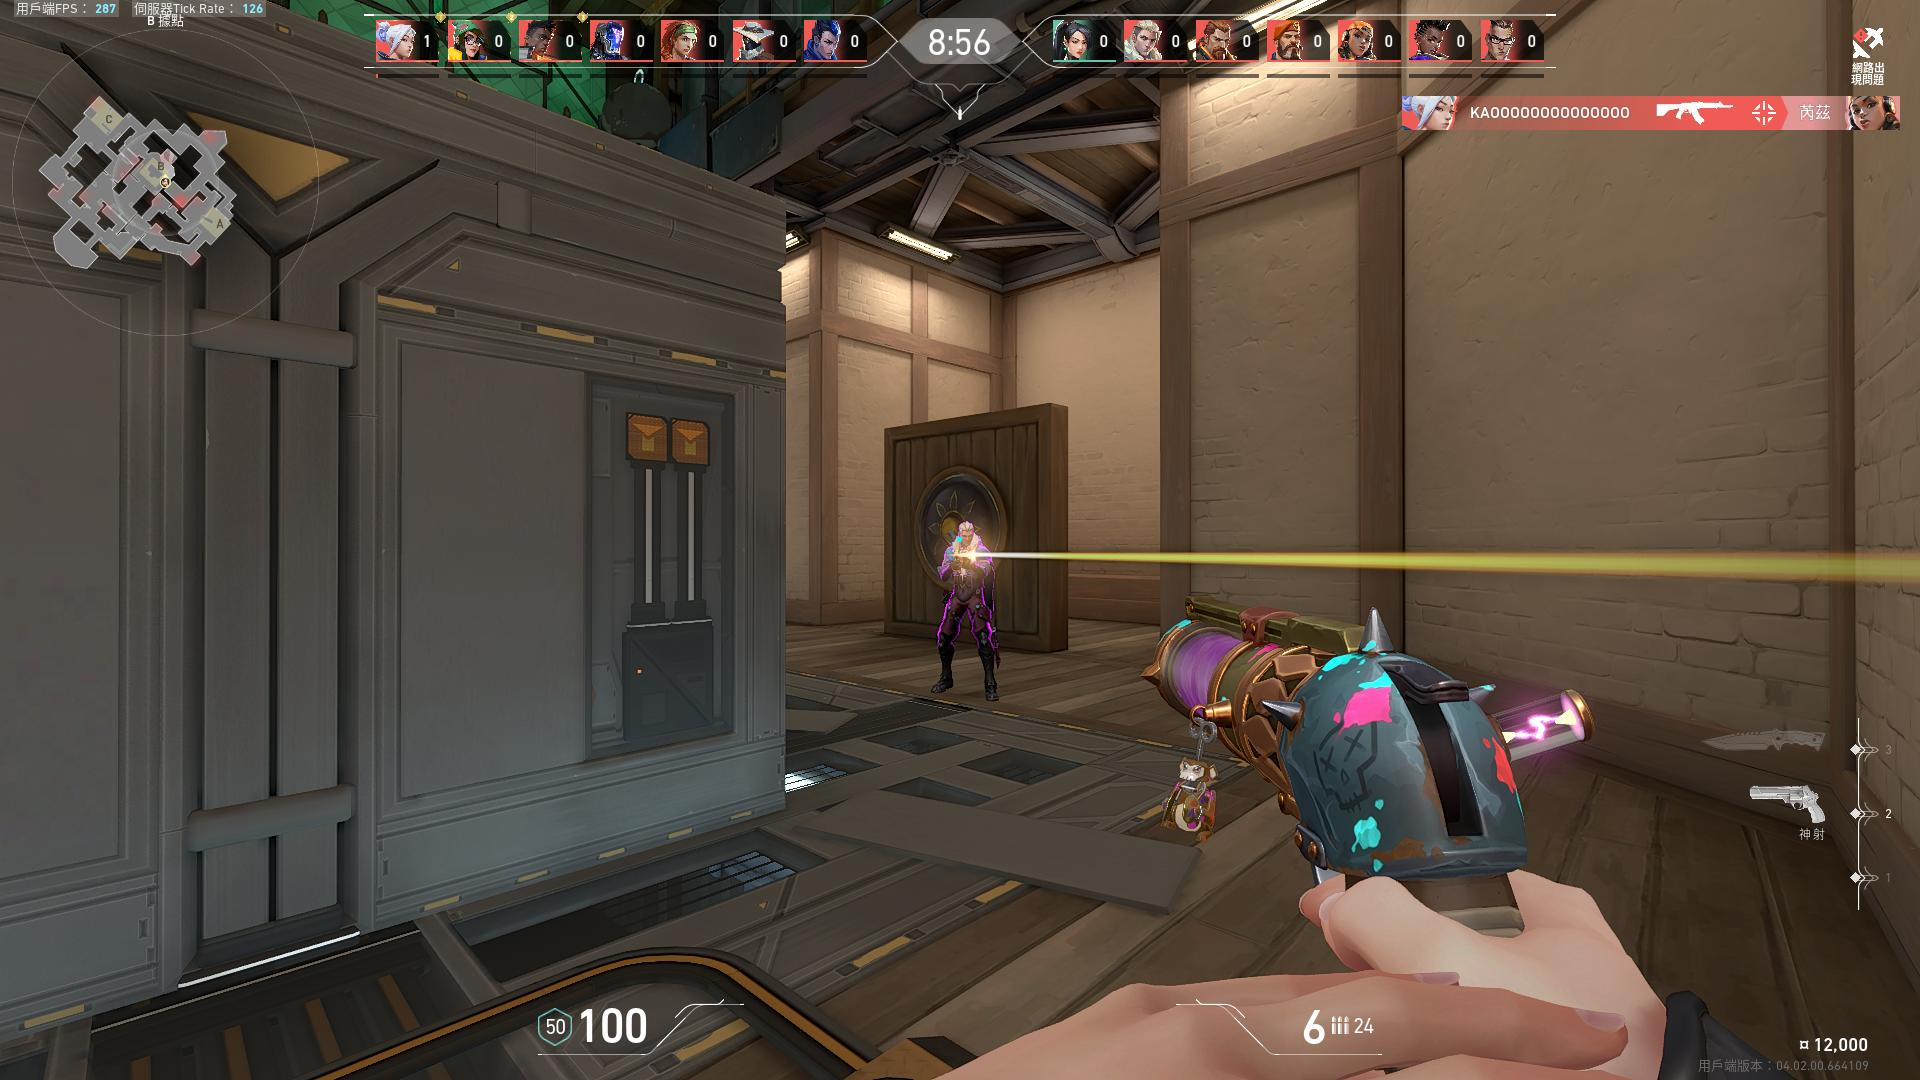enemyBody: (955, 549, 978, 593)
enemyHead: (960, 530, 975, 545)
